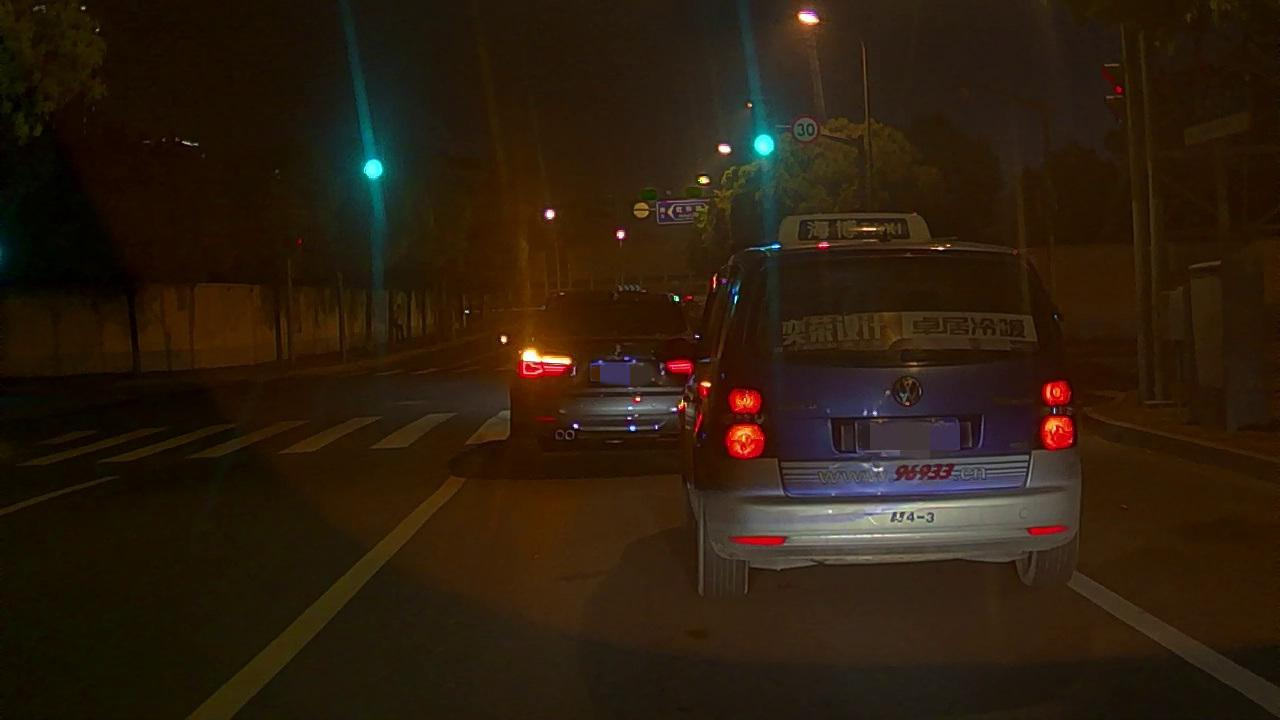traffic_light: (752, 132, 776, 158), (364, 156, 385, 182)
